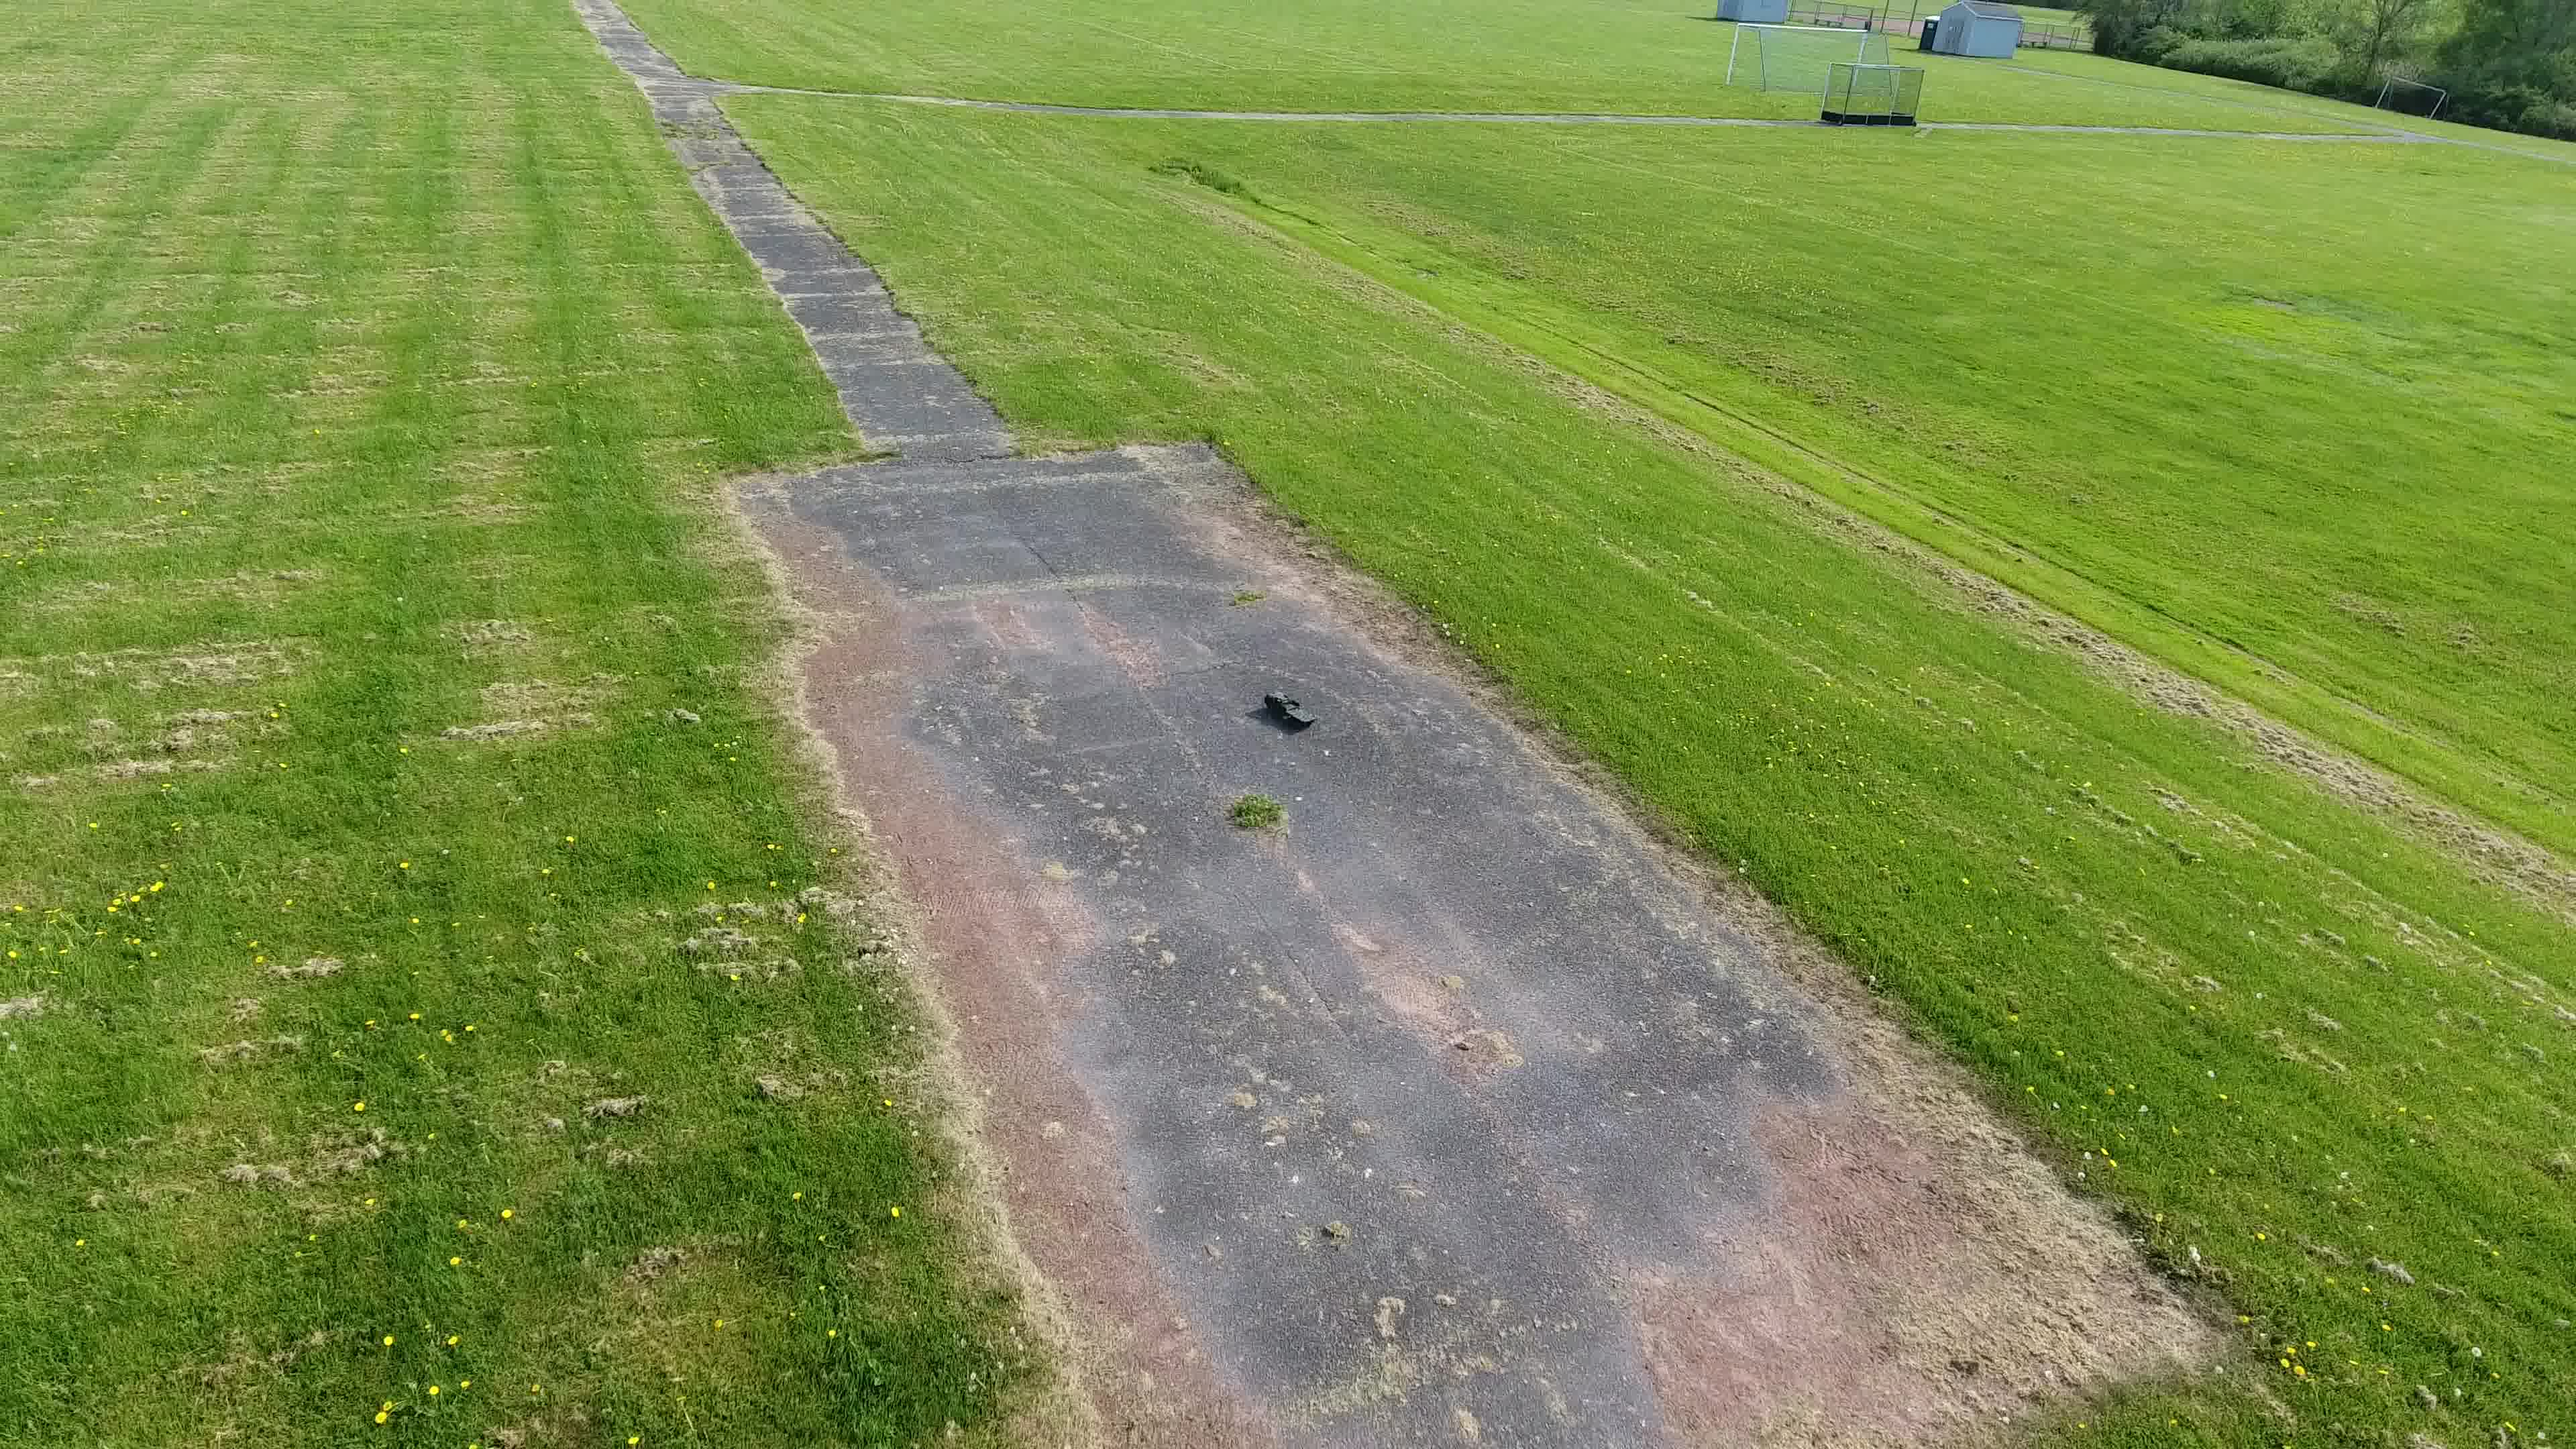transporter9: (1261, 688, 1318, 732)
